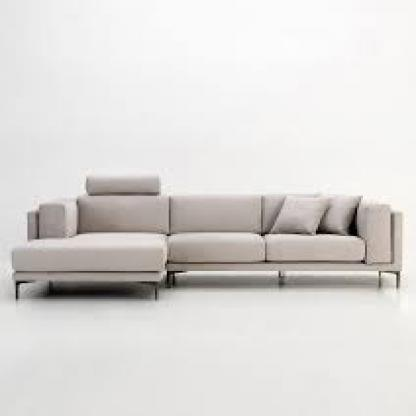sofa: (16, 175, 404, 299)
